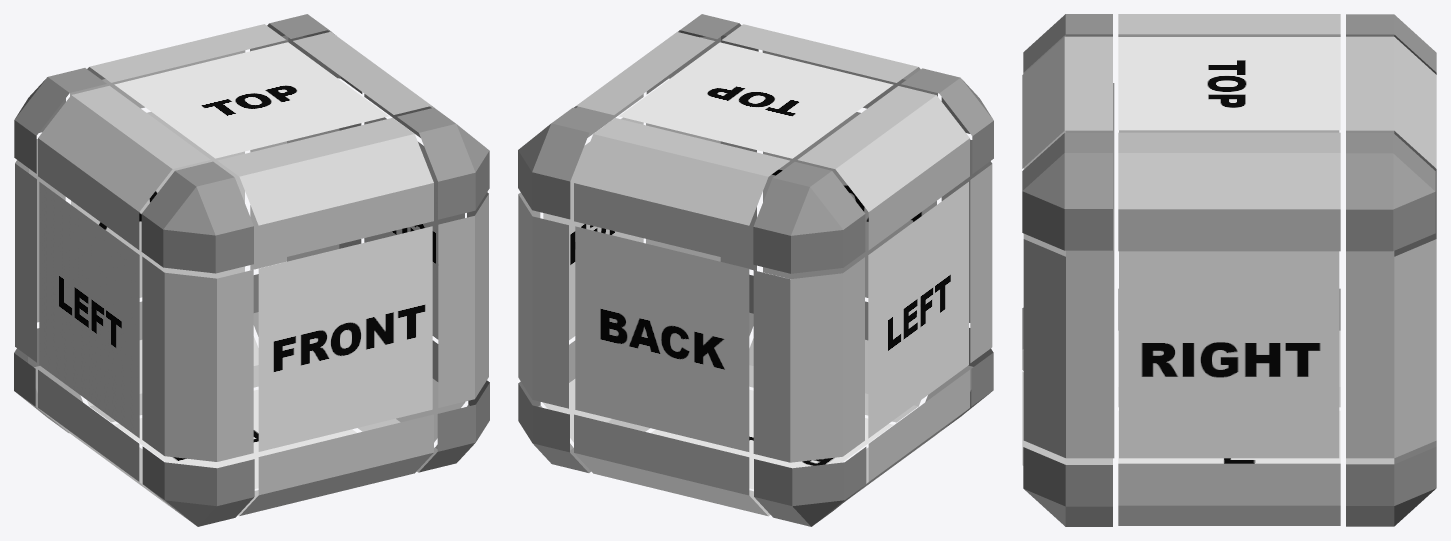
The model's file is nav_cube.glb.
The picture shows the model from 3 angles, left to right: view 1: azimuth 30°, elevation 25°; view 2: azimuth 150°, elevation 25°; view 3: azimuth 270°, elevation 25°; orthographic projection. The views are drawn at different scales.
Parts seen in each view (by area): view 1: front, front_left, top_front, left, top, top_left, top_front_left, bottom_front, front_right, bottom_front_left, top_front_right, back_left (+13 smaller); view 2: back, back_left, top_back, left, top, top_left, top_back_left, bottom_back, back_right, bottom_back_left, top_back_right, front_left (+13 smaller); view 3: right, top_right, top, front_right, back_right, bottom_right, top_front_right, top_back_right, top_front, top_back, bottom_back_right, bottom_front_right (+9 smaller).
Boxes of the visible parts, x1,y1,x2,y2 form: front: [258, 226, 432, 451]; front_left: [142, 256, 253, 461]; top_front: [217, 118, 433, 263]; left: [39, 182, 139, 438]; top: [114, 42, 388, 158]; top_left: [38, 85, 210, 249]; top_front_left: [141, 161, 253, 273]; bottom_front: [238, 414, 433, 515]; front_right: [438, 192, 488, 407]; bottom_front_left: [142, 446, 254, 526]; top_front_right: [397, 107, 489, 219]; back_left: [15, 139, 65, 362]; back: [575, 226, 749, 451]; back_left: [753, 257, 864, 462]; top_back: [574, 118, 789, 263]; left: [868, 182, 968, 438]; top: [619, 42, 893, 158]; top_left: [797, 86, 969, 250]; top_back_left: [753, 162, 865, 273]; bottom_back: [574, 414, 770, 516]; back_right: [518, 192, 568, 408]; bottom_back_left: [754, 447, 866, 526]; top_back_right: [518, 107, 610, 219]; front_left: [941, 139, 992, 362]; right: [1119, 257, 1339, 458]; top_right: [1118, 132, 1340, 251]; top: [1118, 37, 1340, 130]; front_right: [1023, 239, 1114, 458]; back_right: [1346, 239, 1436, 458]; bottom_right: [1118, 463, 1340, 525]; top_front_right: [1022, 133, 1112, 250]; top_back_right: [1346, 133, 1435, 251]; top_front: [1022, 36, 1112, 168]; top_back: [1346, 36, 1436, 168]; bottom_back_right: [1346, 446, 1436, 526]; bottom_front_right: [1023, 447, 1112, 526].
Bounding box in the file's own units: 2.16 × 2.15 × 2.16.
Materials: 26 (6 with a texture image).
